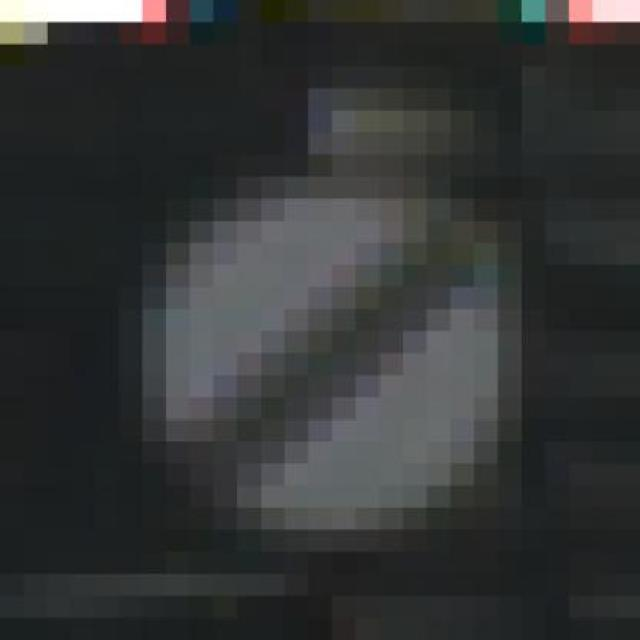End of all speed and passing limits: (119, 176, 522, 552)
